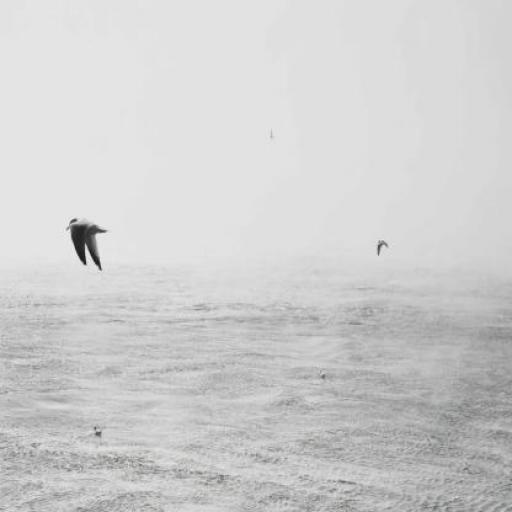bird: (65, 218, 110, 276), (376, 239, 392, 257), (269, 130, 277, 140)
